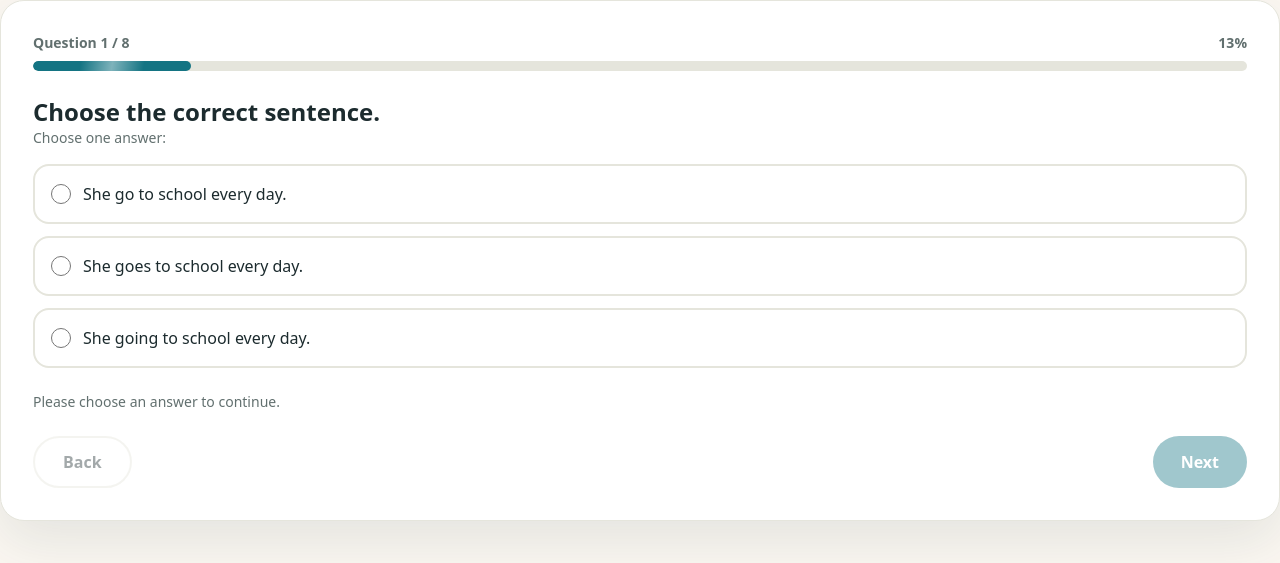
Scenario: LevelQuiz › enables Next only after selecting an answer and advances one question
expect the button "Next" is disabled: met, box [1153,436,1247,488]
Step 1. Click the radio button labelled "She go to school every day." → (61, 194), box [51,184,71,204]
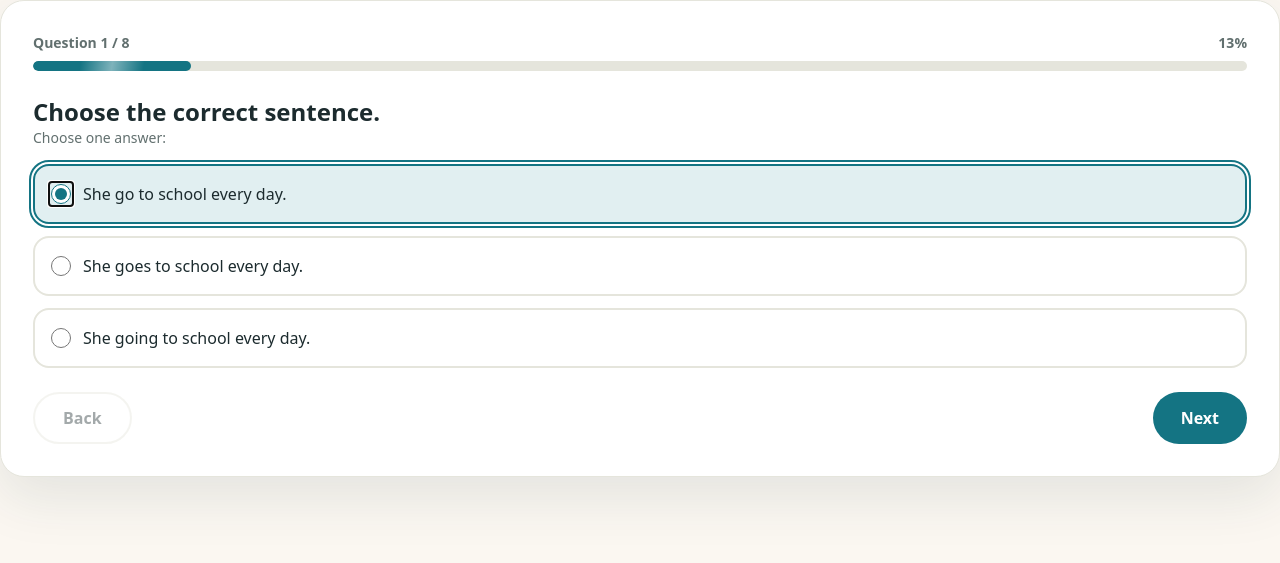
expect the button "Next" is enabled: met
Step 2. Click the button "Next" → (1200, 418), box [1153,392,1247,444]
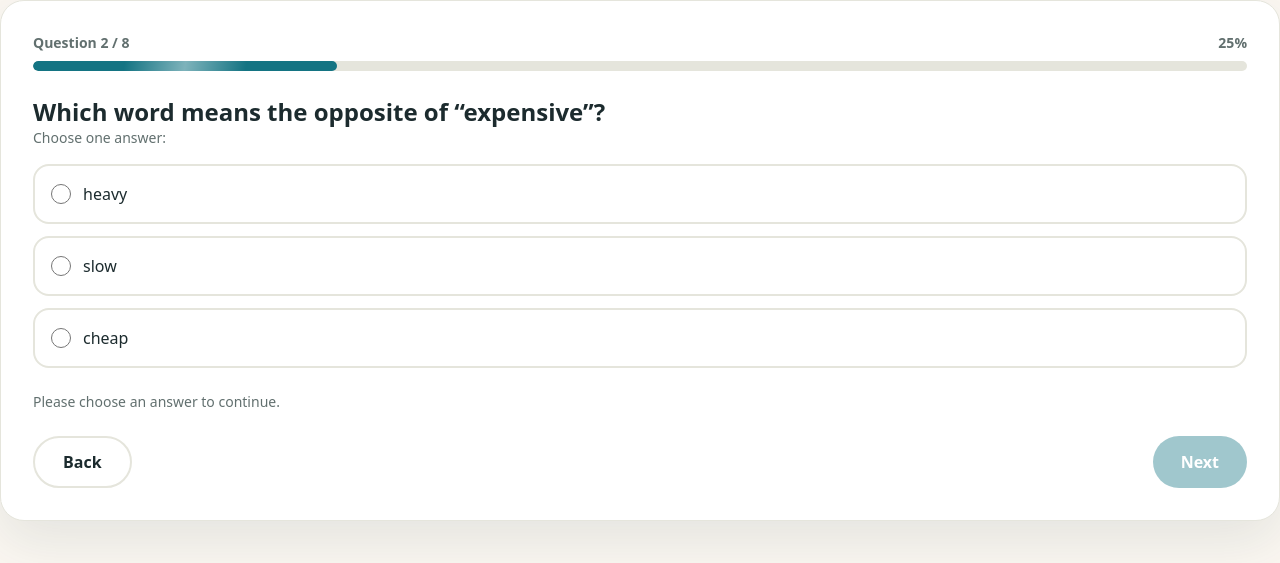
expect the text "Which word means the opposite of “expensive”?" is shown: met, box [33,95,605,128]
expect the text "Choose the correct sentence." is gone: met
